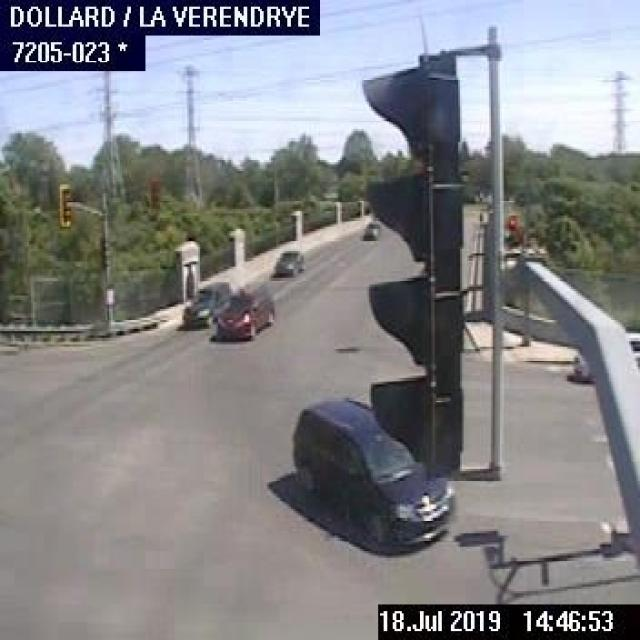vehicle: (289, 393, 453, 542), (214, 288, 271, 340), (181, 281, 228, 327), (271, 248, 304, 274), (565, 351, 589, 382), (362, 220, 376, 238)
